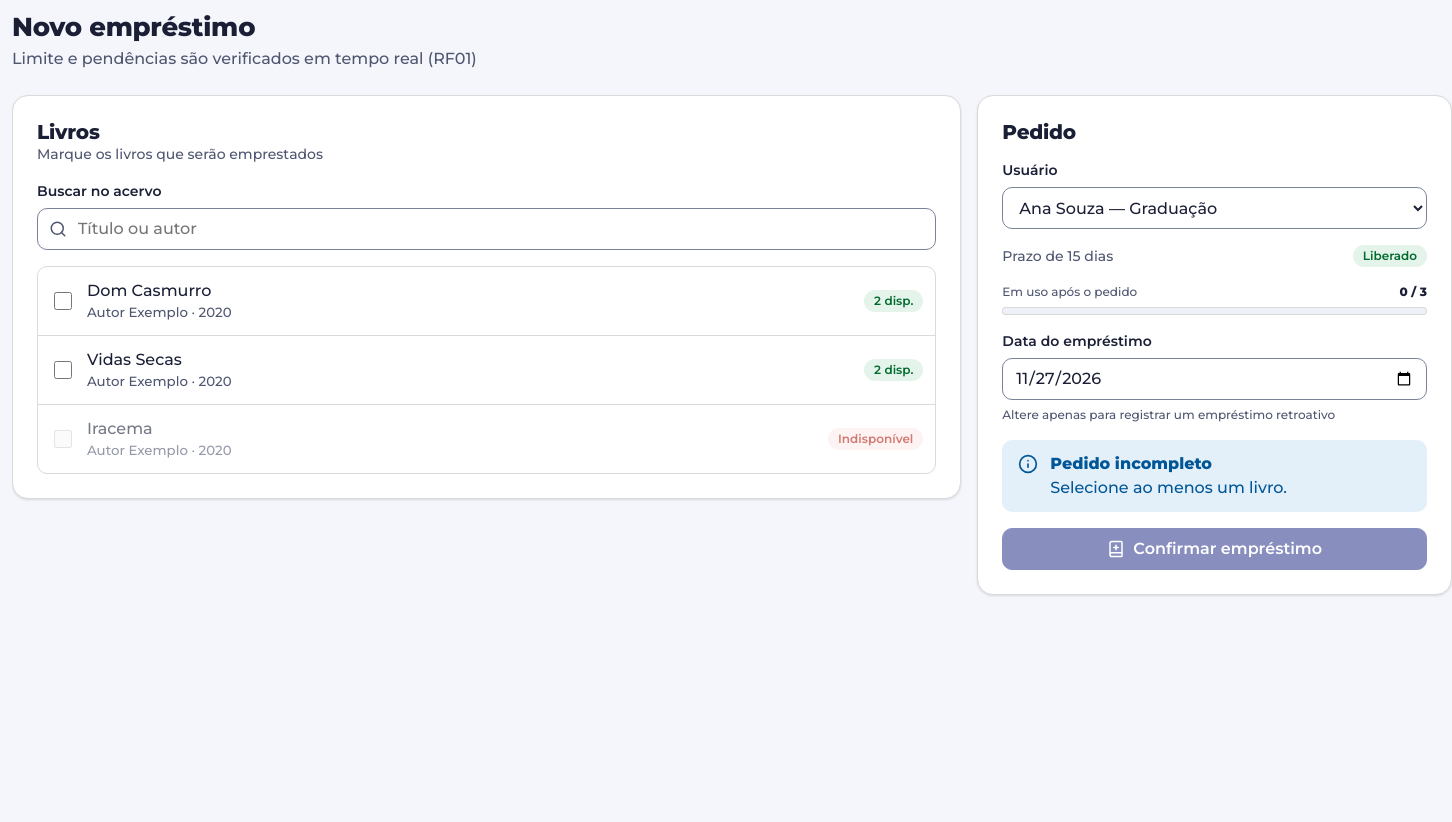
it: UI — Novo empréstimo (RF01 em tempo real) › UI15 — recusa vinda da API é exibida ao usuário
Expected: the text "Dom Casmurro" is shown, [87, 281, 211, 300]
Click the checkbox labelled "Dom Casmurro Autor Exemplo · 2020 2 disp.".
click(63, 301)  # box [54, 292, 72, 310]
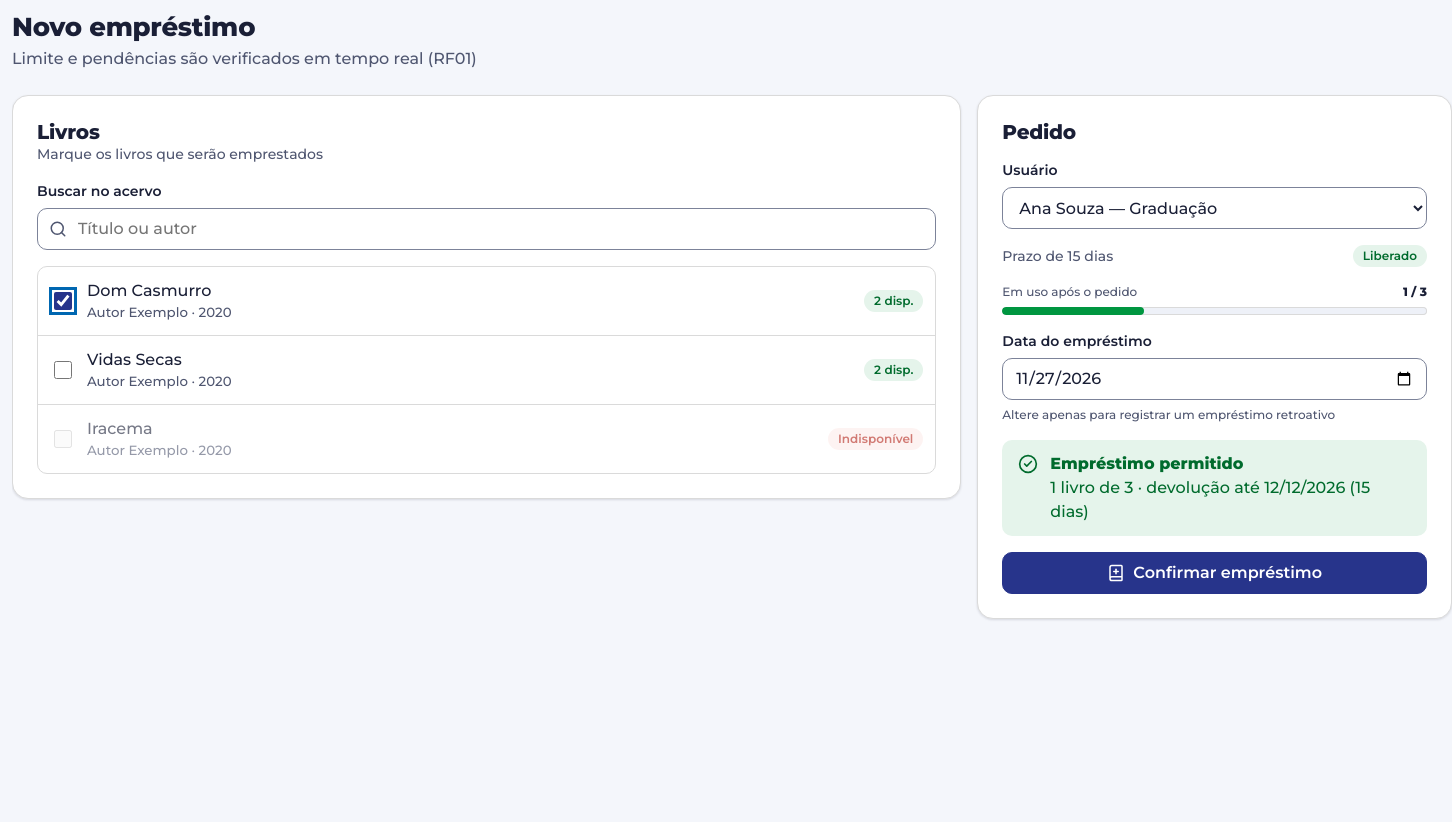
Click the button "Confirmar empréstimo".
click(1215, 573)  # box [1002, 552, 1427, 594]
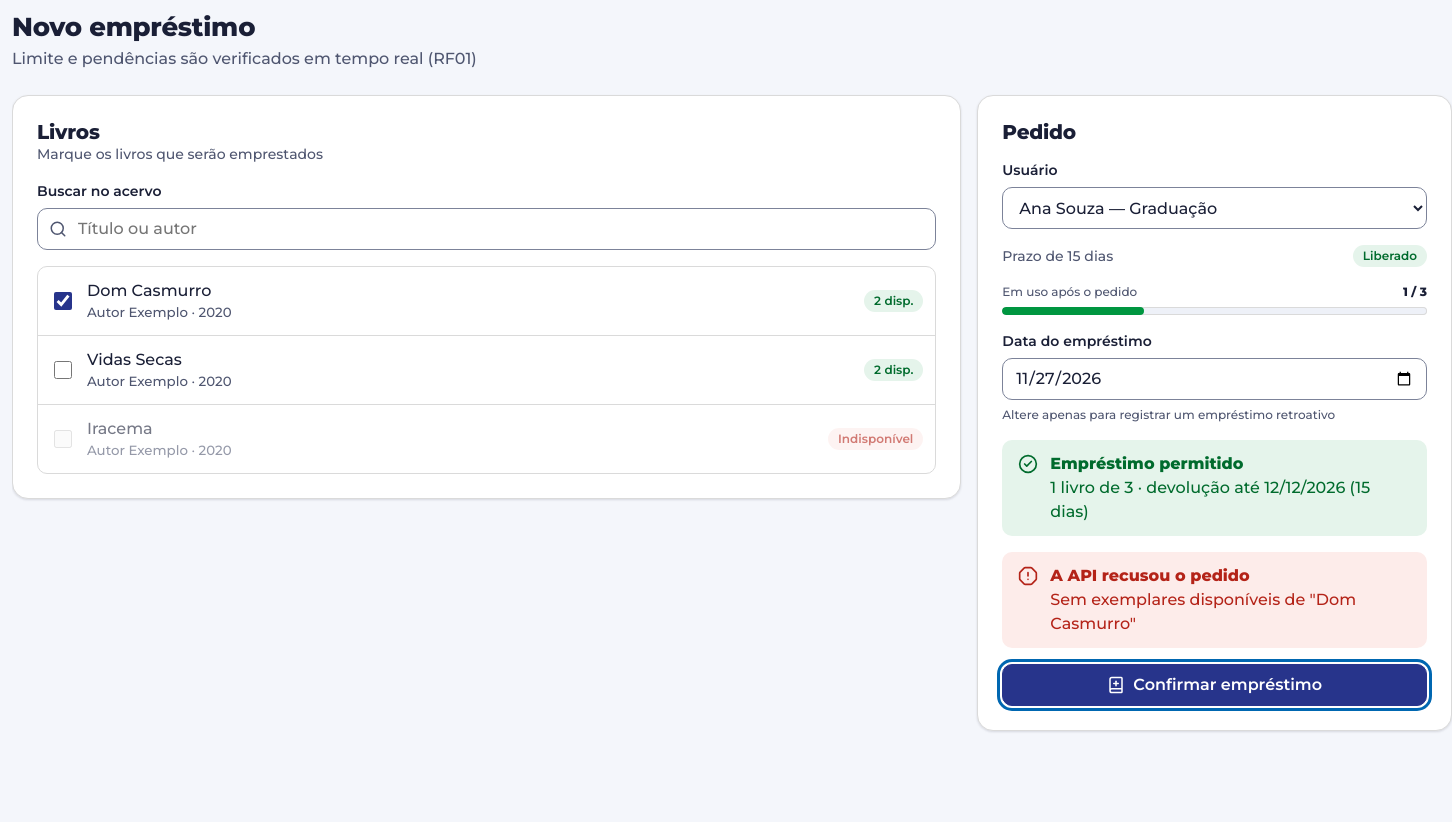
Expected: the text "Sem exemplares disponíveis de \"Dom Casmurro\"" is shown, [1050, 590, 1356, 633]
